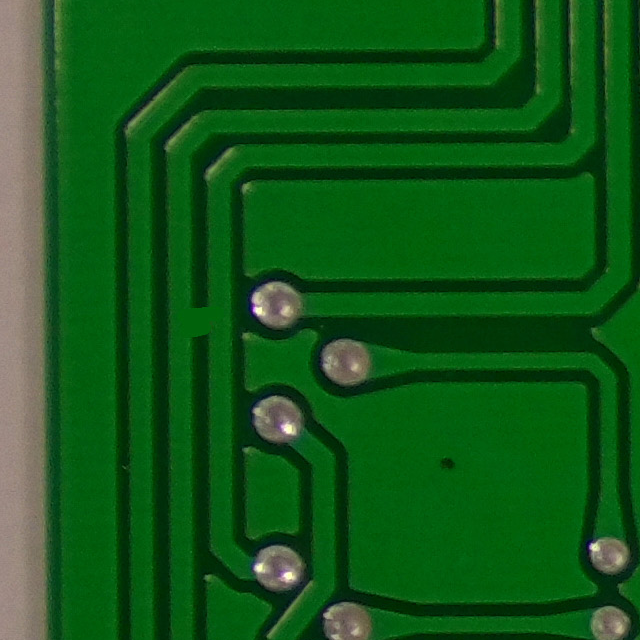short: (159, 280, 240, 361)
